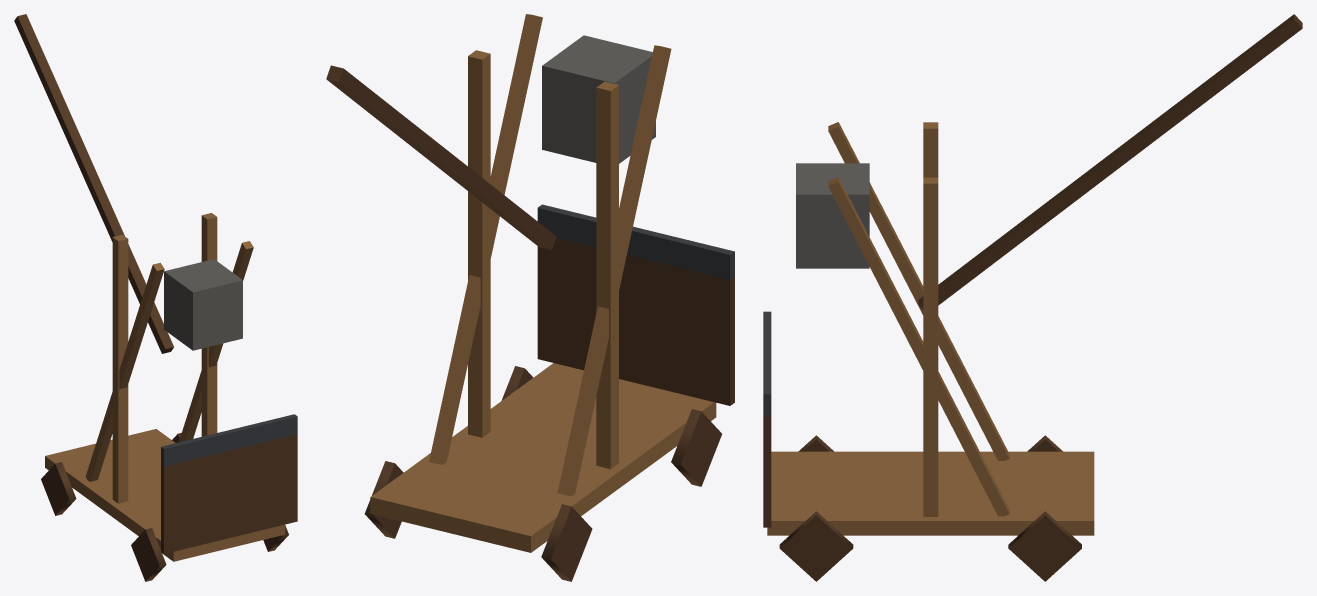
File: unit_mil_trebuchet_a03_lod2.glb
The picture shows the model from 3 angles, left to right: view 1: azimuth 30°, elevation 25°; view 2: azimuth 150°, elevation 25°; view 3: azimuth 270°, elevation 25°; orthographic projection. The views are drawn at different scales.
Visible parts, largest first — view 1: body, arm, wheel_0, wheel_2; view 2: body, arm, wheel_0, wheel_2, wheel_1; view 3: body, arm, wheel_3, wheel_1.
Boxes of the visible parts, x1,y1,x2,y2 form: body: (45, 213, 297, 561); arm: (14, 14, 242, 353); wheel_0: (41, 462, 76, 515); wheel_2: (131, 528, 166, 581); body: (370, 14, 734, 552); arm: (326, 35, 655, 250); wheel_0: (541, 504, 592, 581); wheel_2: (671, 409, 721, 486); wheel_1: (364, 461, 403, 538); body: (763, 122, 1094, 535); arm: (796, 14, 1302, 309); wheel_3: (779, 511, 853, 581); wheel_1: (1008, 511, 1081, 581).
Bounding box in the file's own units: 2.4 × 7.09 × 6.6.
